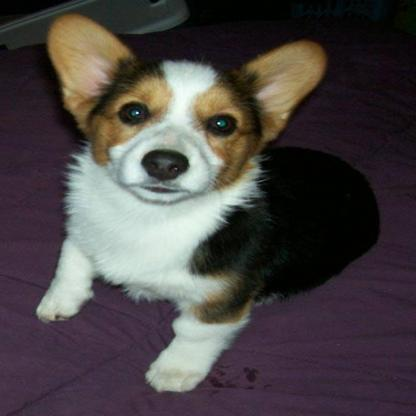Pembroke: (27, 6, 386, 395)
